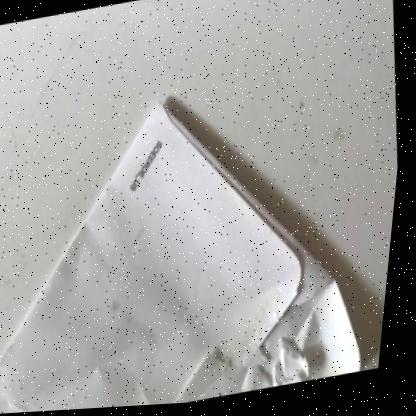Paper: (0, 106, 367, 415)
